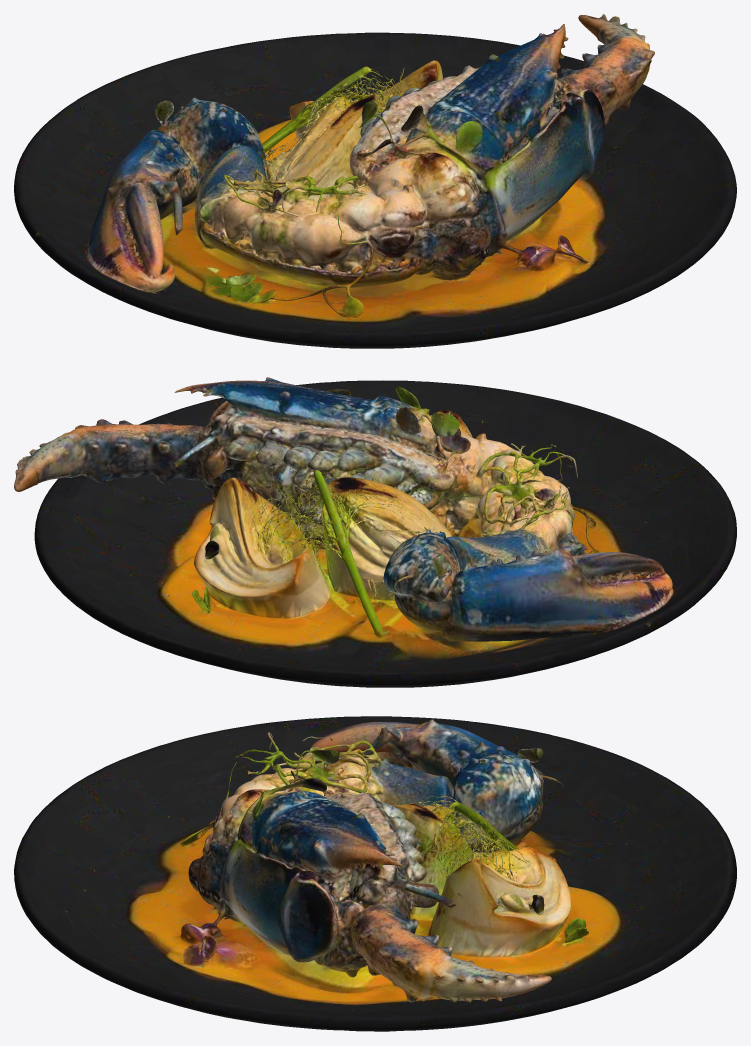
The model's file is homard-bisque-ar-lite-meshy.glb.
3 views of the same model, one above another, from view 1: azimuth 30°, elevation 25°; view 2: azimuth 150°, elevation 25°; view 3: azimuth 270°, elevation 25° (orthographic). The views are drawn at different scales.
Visible parts, largest first — view 1: node0; view 2: node0; view 3: node0.
Boxes of the visible parts, x1,y1,x2,y2 form: node0: (14,14,736,348); node0: (14,377,736,687); node0: (14,716,736,1031).
Size of the model in its own units: 0.21 by 0.0552 by 0.2094.
Materials: 1 (1 with a texture image).
